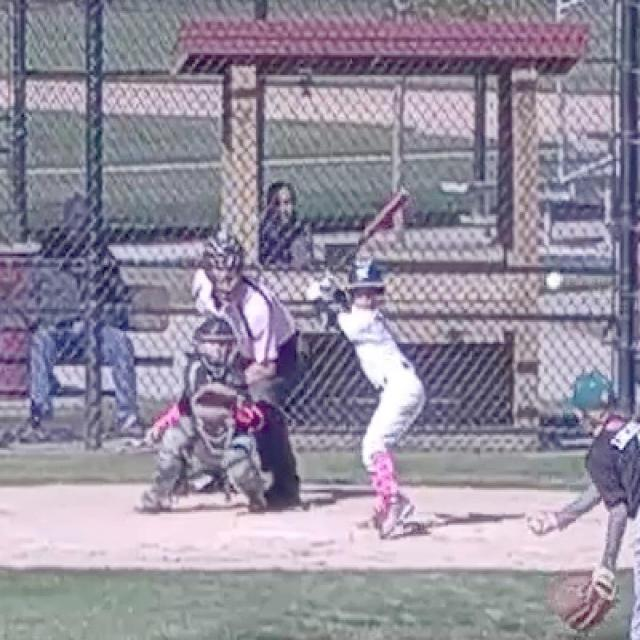baseball: (545, 273, 563, 289)
